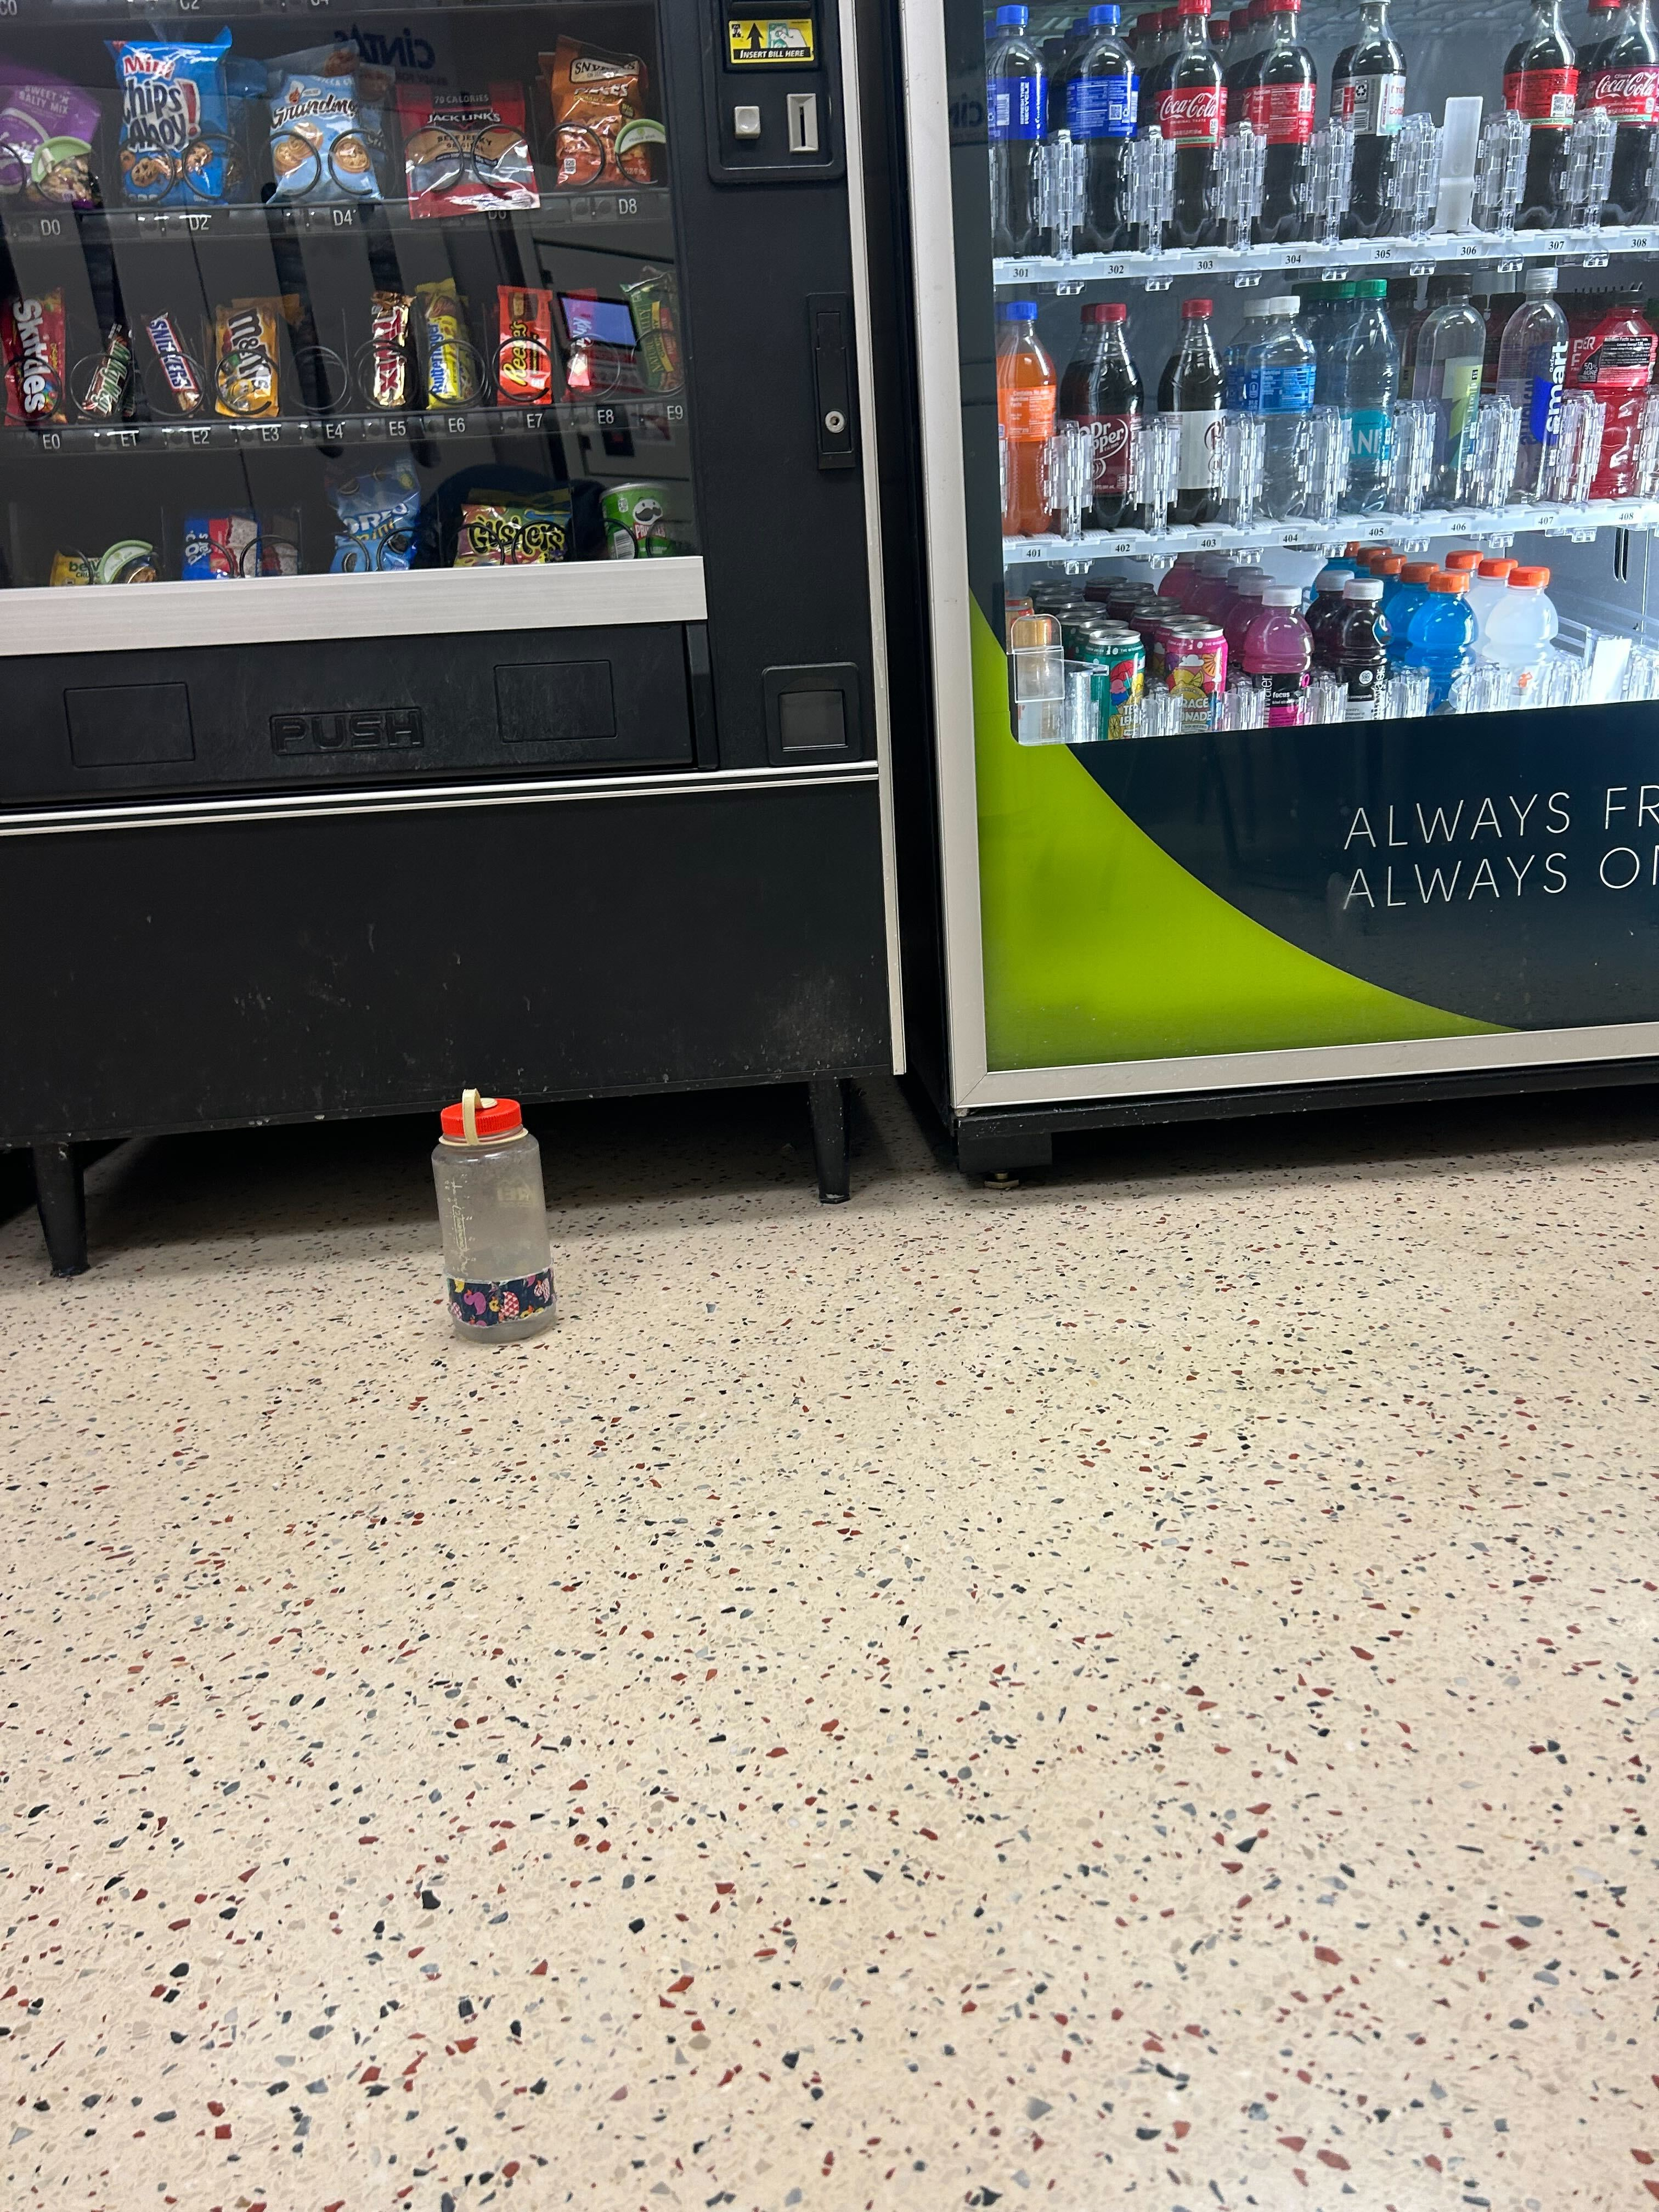bottle: (425, 1076, 561, 1353)
